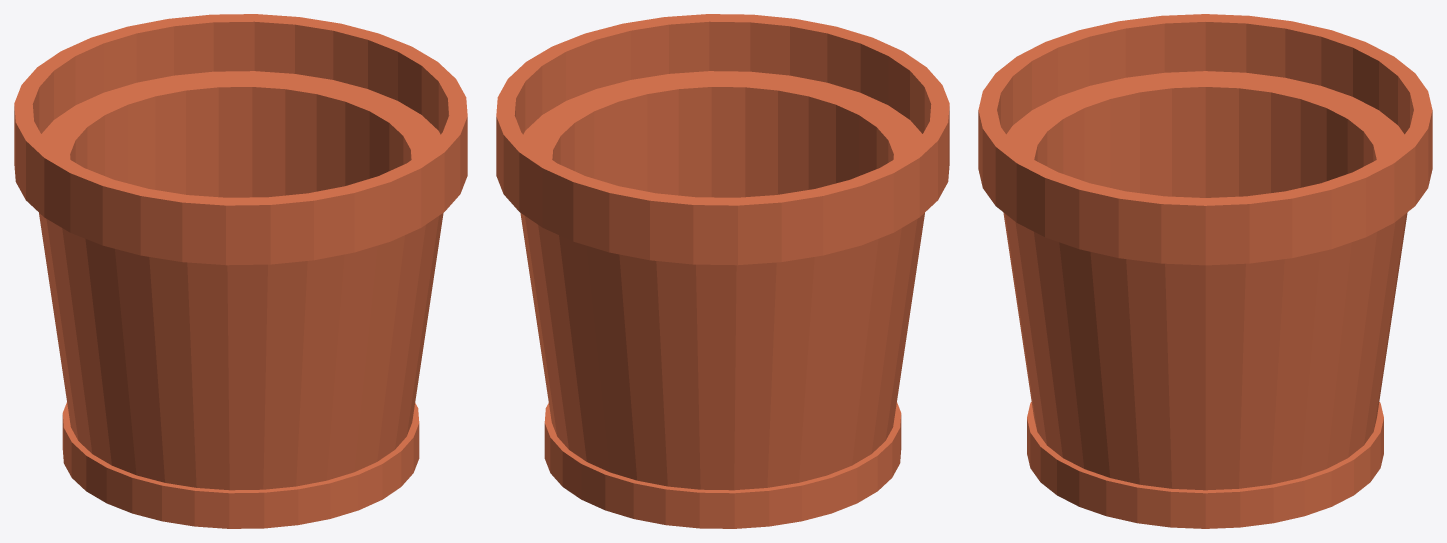
Rendered from Vase3.fbx.
3 views of the same model, side by side, from view 1: azimuth 30°, elevation 25°; view 2: azimuth 150°, elevation 25°; view 3: azimuth 270°, elevation 25° (orthographic).
Visible parts, largest first — view 1: Vase.006; view 2: Vase.006; view 3: Vase.006.
Part boxes in pixels (<box>): Vase.006: <box>14,14,467,528</box>; Vase.006: <box>496,14,949,528</box>; Vase.006: <box>978,14,1432,528</box>.
Bounding box in the file's own units: 218 × 182 × 218.
